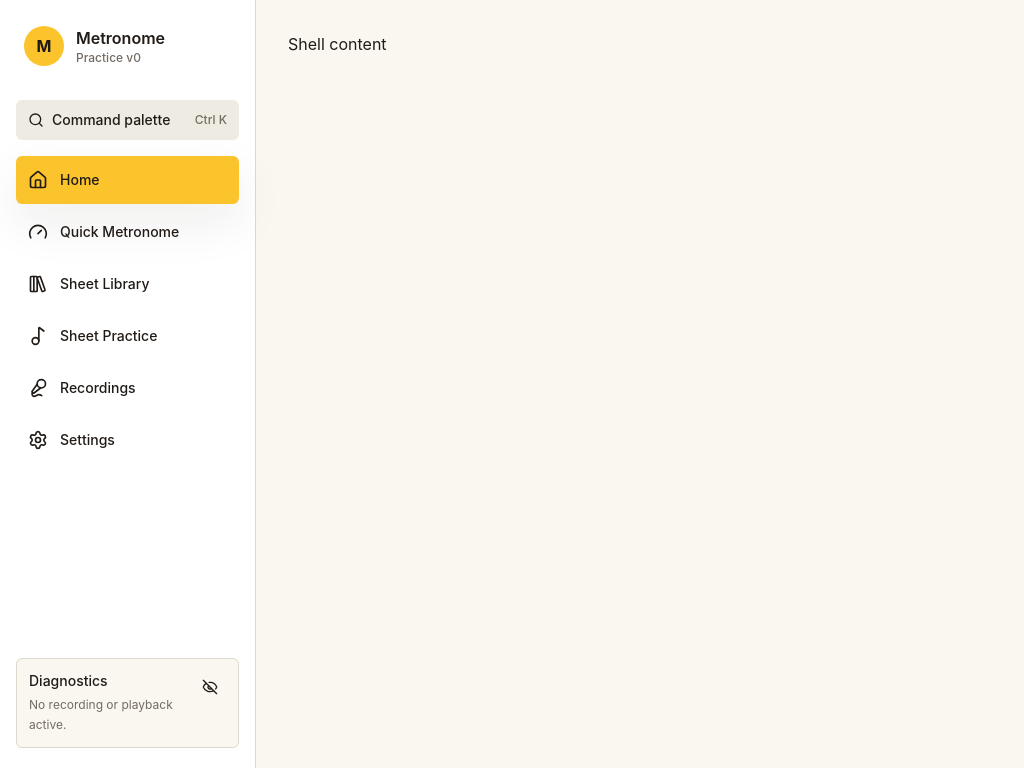
it: AppShell › keeps Enter execution on the active-recording guarded navigation path
The image size is (1024, 768).
Type keys "{Control>}k{/Control}"
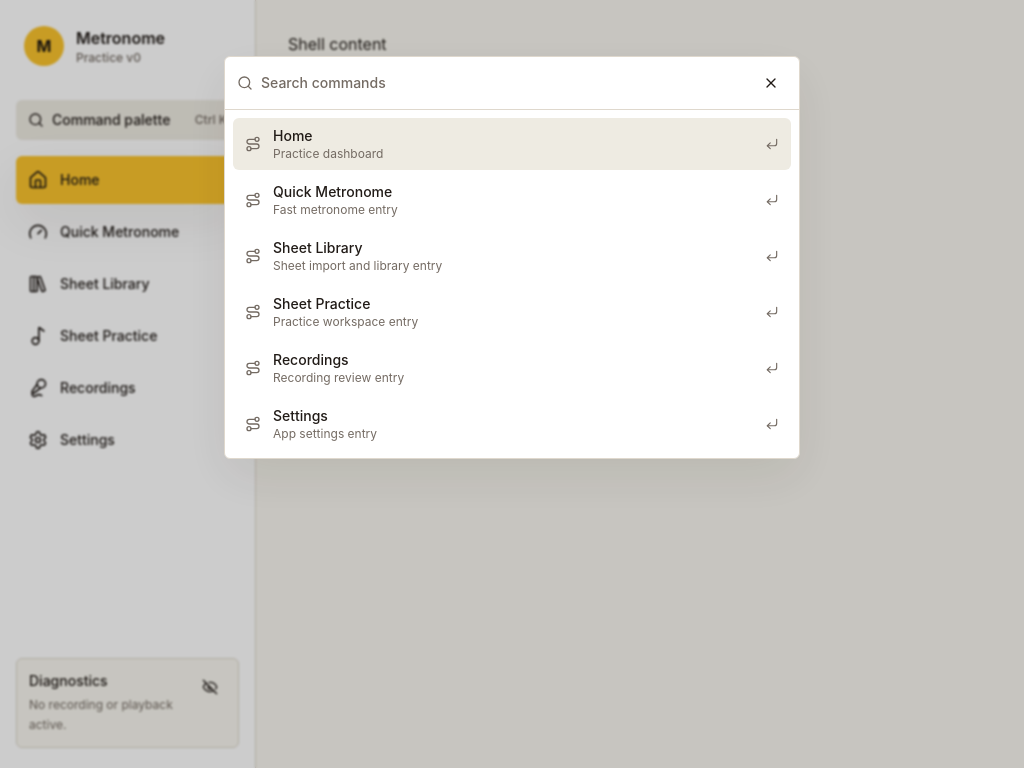
In the dropdown labelled "Search commands": [504, 83] box top-left (261, 73), bottom-right (747, 93), type "settings"
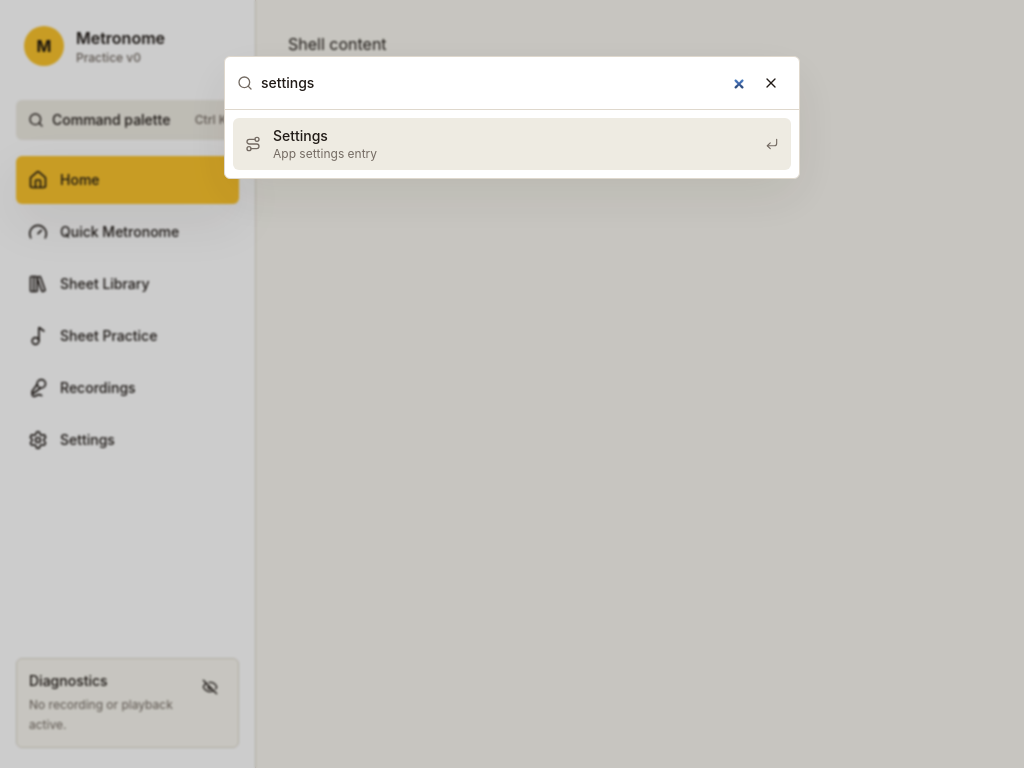
Press Enter
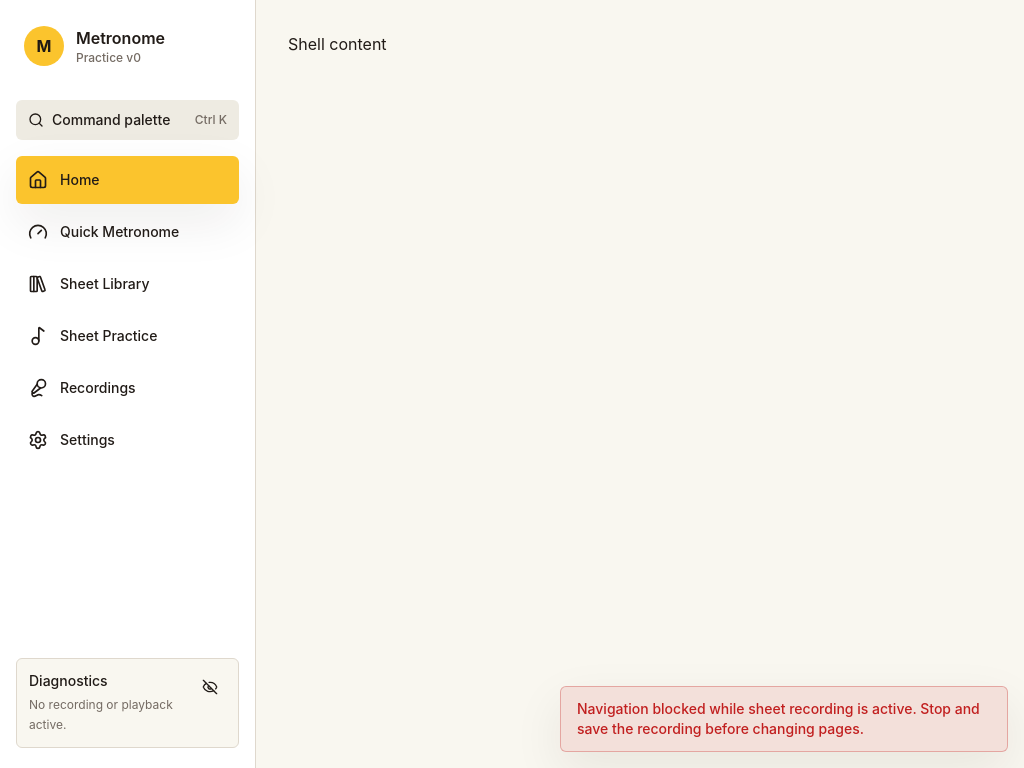
Expected: the message with test id "active-recording-navigation-guard" shows "Navigation blocked while sheet recording is active.", top-left (577, 700), bottom-right (980, 737)
